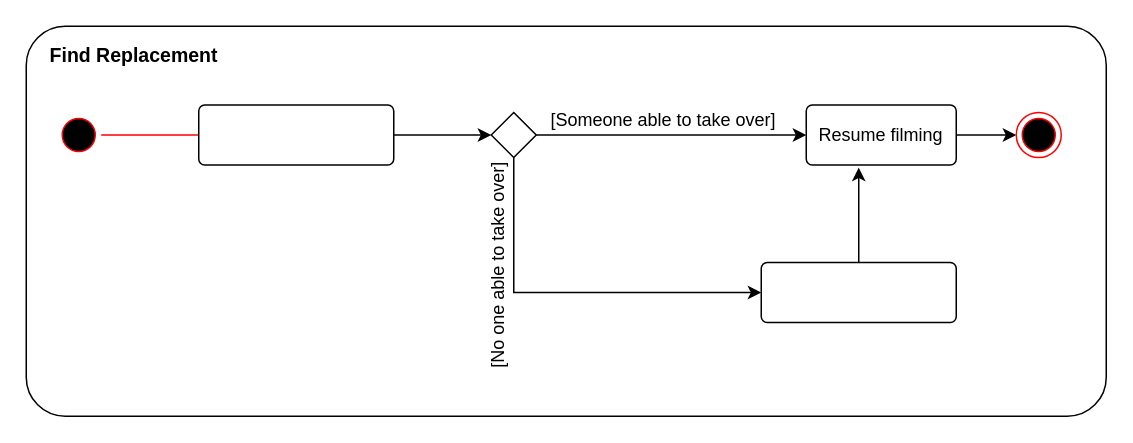
Some shapes in this 1133 by 443 pixel diagram are drawn without their labels. The shapes that lost their labels are listed below. From the top down, each one's centre as x and y in pixels, then its label:
the point at 295,134: Ask current crew to take over
the point at 858,291: Contact talent agency for replacement
